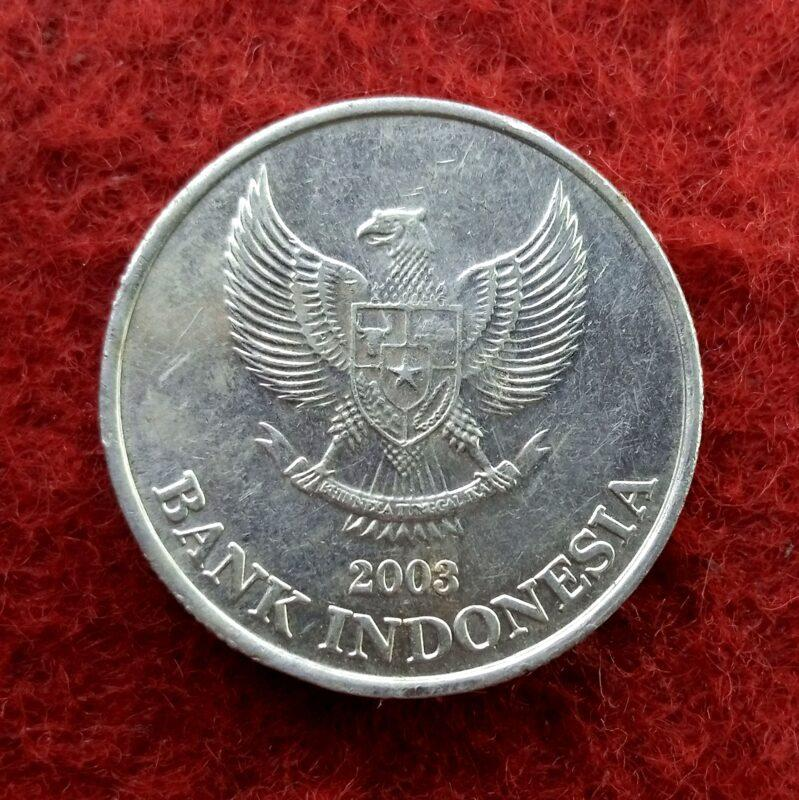coin_500_e2003: (96, 89, 708, 701)
